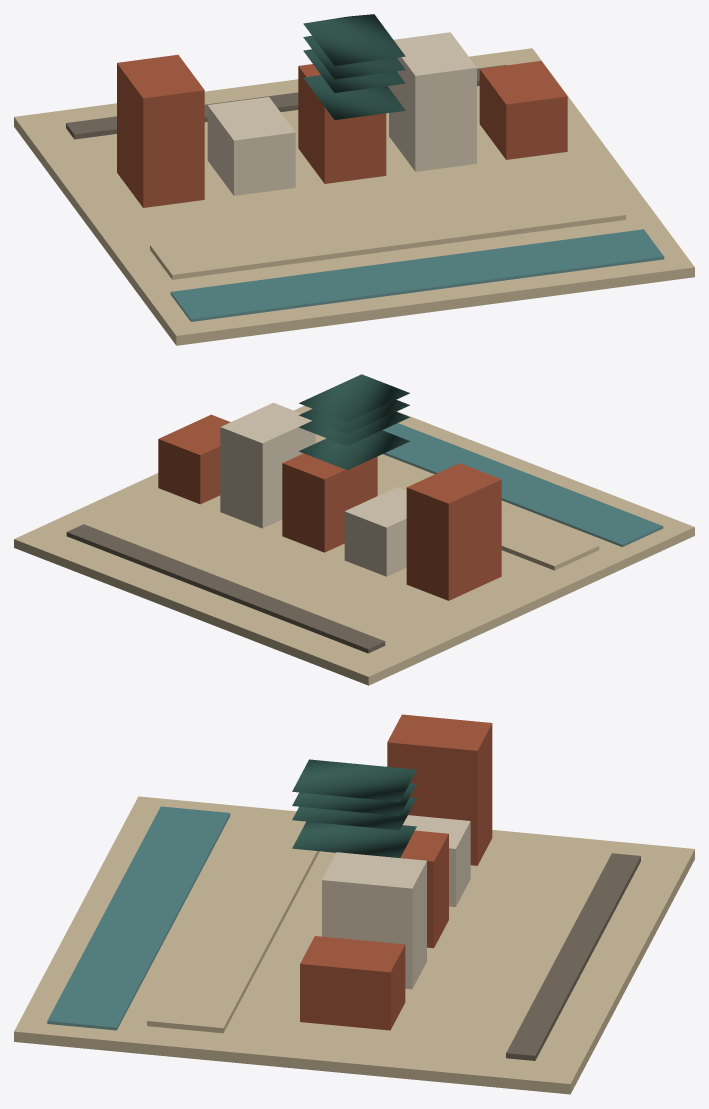
The model's file is model-medium.glb.
3 renders of one model, top to bottom at view 1: azimuth 30°, elevation 25°; view 2: azimuth 150°, elevation 25°; view 3: azimuth 270°, elevation 25°, orthographic. The views are drawn at different scales.
Parts seen in each view (by area): view 1: context_site_plinth, street_public_axis, context_water_edge, street_facade_0, street_facade_3, street_facade_1, street_facade_4, street_facade_2, street_roof_0, street_roof_1, front_scale_strip, street_roof_3 (+1 smaller); view 2: context_site_plinth, street_facade_0, context_water_edge, street_facade_3, street_facade_2, front_scale_strip, street_facade_4, street_facade_1, street_public_axis, street_roof_0, street_roof_1, street_roof_2 (+1 smaller); view 3: context_site_plinth, street_public_axis, context_water_edge, street_facade_0, street_facade_3, street_facade_4, front_scale_strip, street_roof_0, street_roof_1, street_facade_2, street_facade_1, street_roof_3 (+1 smaller).
Part boxes in pixels (x1=…): context_site_plinth: x1=14, y1=48, x2=694, y2=345; street_public_axis: x1=150, y1=185, x2=625, y2=279; context_water_edge: x1=170, y1=229, x2=664, y2=321; street_facade_0: x1=117, y1=54, x2=204, y2=207; street_facade_3: x1=389, y1=32, x2=476, y2=171; street_facade_1: x1=207, y1=97, x2=295, y2=195; street_facade_4: x1=479, y1=61, x2=567, y2=159; street_facade_2: x1=298, y1=64, x2=386, y2=183; street_roof_0: x1=303, y1=14, x2=405, y2=65; street_roof_1: x1=303, y1=75, x2=405, y2=119; front_scale_strip: x1=66, y1=64, x2=506, y2=139; street_roof_3: x1=303, y1=29, x2=405, y2=79; context_site_plinth: x1=14, y1=405, x2=694, y2=685; street_facade_0: x1=406, y1=463, x2=501, y2=600; context_water_edge: x1=382, y1=423, x2=663, y2=547; street_facade_3: x1=220, y1=402, x2=315, y2=528; street_facade_2: x1=282, y1=453, x2=377, y2=552; front_scale_strip: x1=66, y1=524, x2=385, y2=653; street_facade_4: x1=158, y1=414, x2=230, y2=504; street_facade_1: x1=344, y1=487, x2=406, y2=576; street_public_axis: x1=315, y1=435, x2=599, y2=570; street_roof_0: x1=299, y1=374, x2=409, y2=421; street_roof_1: x1=299, y1=430, x2=409, y2=470; street_roof_2: x1=299, y1=411, x2=409, y2=446; context_site_plinth: x1=14, y1=796, x2=694, y2=1094; street_public_axis: x1=147, y1=815, x2=319, y2=1033; context_water_edge: x1=47, y1=806, x2=230, y2=1030; street_facade_0: x1=387, y1=714, x2=492, y2=865; street_facade_3: x1=322, y1=852, x2=426, y2=989; street_facade_4: x1=300, y1=936, x2=405, y2=1030; front_scale_strip: x1=506, y1=853, x2=640, y2=1060; street_roof_0: x1=292, y1=759, x2=416, y2=801; street_roof_1: x1=292, y1=821, x2=416, y2=857; street_facade_2: x1=400, y1=830, x2=448, y2=948; street_facade_1: x1=403, y1=815, x2=470, y2=906; street_roof_3: x1=292, y1=783, x2=416, y2=815.
Size of the model in its own units: 9.55 by 2.89 by 9.55.
